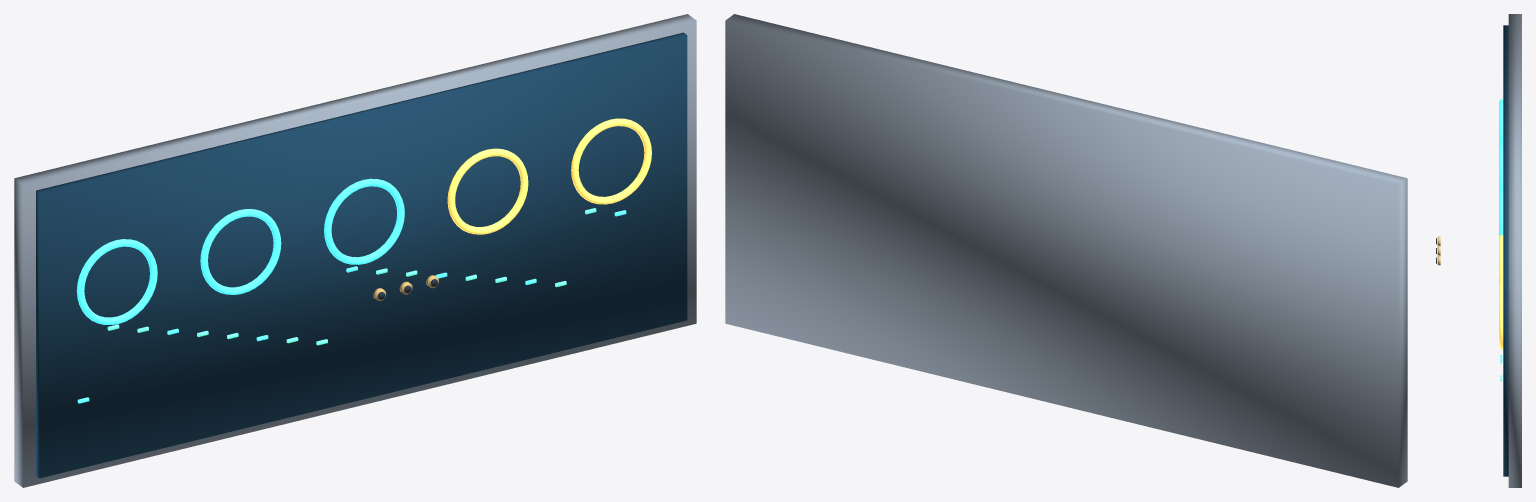
The model's file is 09_L90_MissionControlHologramWall.fbx.
3 renders of one model, left to right at view 1: azimuth 30°, elevation 25°; view 2: azimuth 150°, elevation 25°; view 3: azimuth 270°, elevation 25°, orthographic. The views are drawn at different scales.
Parts seen in each view (by area): view 1: L90_MissionControlHologramWal_Part_0001, L90_MissionControlHologramWal_Part_0000, L90_MissionControlHologramWal_Part_0002, L90_MissionControlHologramWal_Part_0003; view 2: L90_MissionControlHologramWal_Part_0000; view 3: L90_MissionControlHologramWal_Part_0000, L90_MissionControlHologramWal_Part_0001, L90_MissionControlHologramWal_Part_0002, L90_MissionControlHologramWal_Part_0003.
Part boxes in pixels (bbox=[...]): L90_MissionControlHologramWal_Part_0001: bbox=[36, 32, 687, 478]; L90_MissionControlHologramWal_Part_0000: bbox=[14, 14, 696, 487]; L90_MissionControlHologramWal_Part_0002: bbox=[76, 178, 404, 324]; L90_MissionControlHologramWal_Part_0003: bbox=[447, 118, 651, 234]; L90_MissionControlHologramWal_Part_0000: bbox=[725, 14, 1407, 487]; L90_MissionControlHologramWal_Part_0000: bbox=[1508, 14, 1521, 487]; L90_MissionControlHologramWal_Part_0001: bbox=[1503, 25, 1508, 476]; L90_MissionControlHologramWal_Part_0002: bbox=[1499, 99, 1503, 236]; L90_MissionControlHologramWal_Part_0003: bbox=[1499, 235, 1503, 348].
Size of the model in its own units: 7.9 by 3.4 by 1.16.
